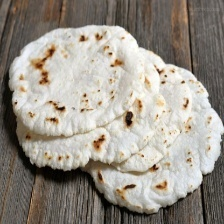roti: (11, 26, 223, 215)
